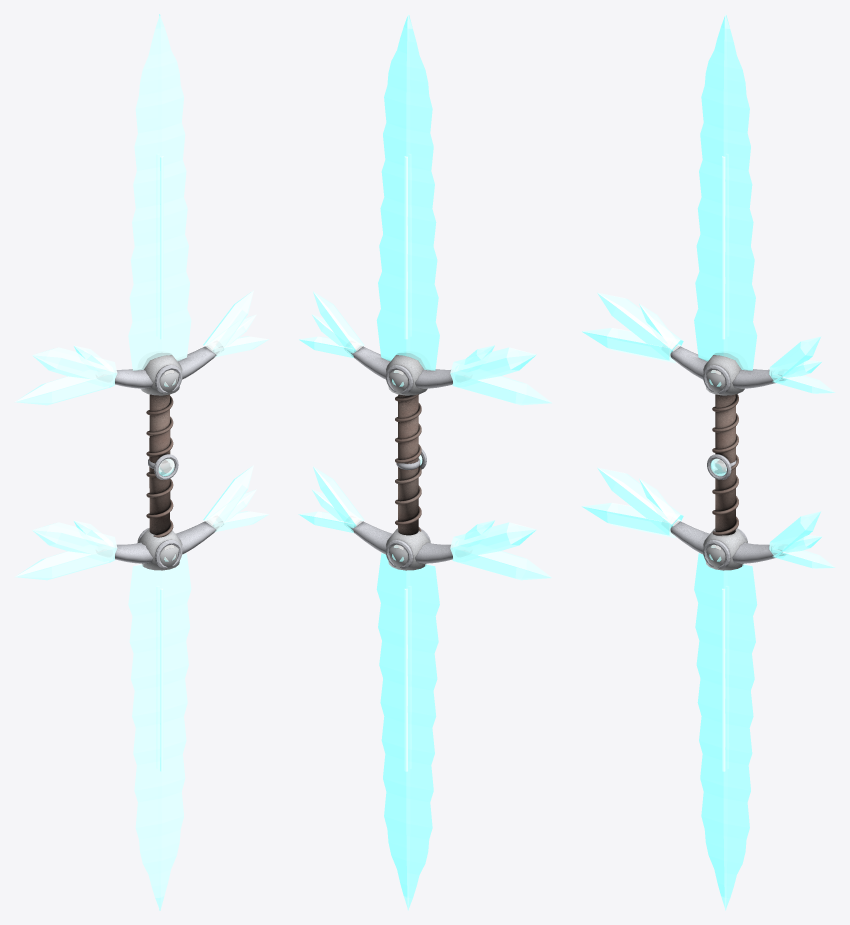
The model's file is arma_lend_espada_dupla_gelo.glb.
The picture shows the model from 3 angles, left to right: view 1: azimuth 30°, elevation 25°; view 2: azimuth 150°, elevation 25°; view 3: azimuth 330°, elevation 25°; orthographic projection.
Parts seen in each view (by area): view 1: lamina_cima, lamina_baixo, arma_lend_espada_dupla_gelo, guarda_baixo_ac-11, guarda_cima_ac-11, guarda_baixo_ac-10, guarda_cima_ac-10, guarda_baixo_ac12, guarda_cima_ac12, lamina_cima_runa-1, lamina_baixo_runa1, lamina_baixo_runa-1 (+5 smaller); view 2: lamina_cima, lamina_baixo, arma_lend_espada_dupla_gelo, guarda_baixo_ac-11, guarda_cima_ac-11, guarda_cima_ac-10, guarda_baixo_ac-10, guarda_baixo_ac12, guarda_cima_ac12, lamina_cima_runa1, lamina_baixo_runa-1, lamina_baixo_runa1 (+5 smaller); view 3: lamina_cima, lamina_baixo, arma_lend_espada_dupla_gelo, guarda_baixo_ac-11, guarda_cima_ac-11, guarda_cima_ac-10, guarda_baixo_ac-10, guarda_cima_ac12, guarda_baixo_ac12, lamina_baixo_runa1, lamina_cima_runa-1, guarda_baixo_ac10 (+7 smaller).
Boxes of the visible parts, left/top/right/bottom form: lamina_cima: left=128, top=14, right=191, bottom=370; lamina_baixo: left=128, top=553, right=191, bottom=910; arma_lend_espada_dupla_gelo: left=115, top=346, right=222, bottom=570; guarda_baixo_ac-11: left=32, top=522, right=117, bottom=561; guarda_cima_ac-11: left=32, top=347, right=117, bottom=386; guarda_baixo_ac-10: left=14, top=540, right=114, bottom=580; guarda_cima_ac-10: left=14, top=365, right=114, bottom=405; guarda_baixo_ac12: left=203, top=465, right=253, bottom=530; guarda_cima_ac12: left=203, top=290, right=253, bottom=355; lamina_cima_runa-1: left=160, top=156, right=163, bottom=339; lamina_baixo_runa1: left=160, top=588, right=163, bottom=771; lamina_baixo_runa-1: left=156, top=586, right=159, bottom=768; lamina_cima: left=376, top=14, right=439, bottom=370; lamina_baixo: left=376, top=553, right=439, bottom=910; arma_lend_espada_dupla_gelo: left=347, top=346, right=452, bottom=570; guarda_baixo_ac-11: left=450, top=522, right=536, bottom=561; guarda_cima_ac-11: left=450, top=347, right=536, bottom=386; guarda_cima_ac-10: left=452, top=366, right=551, bottom=405; guarda_baixo_ac-10: left=452, top=541, right=551, bottom=580; guarda_baixo_ac12: left=313, top=466, right=364, bottom=529; guarda_cima_ac12: left=313, top=291, right=364, bottom=354; lamina_cima_runa1: left=404, top=156, right=407, bottom=339; lamina_baixo_runa-1: left=404, top=588, right=407, bottom=771; lamina_baixo_runa1: left=408, top=586, right=411, bottom=768; lamina_cima: left=694, top=14, right=757, bottom=370; lamina_baixo: left=694, top=553, right=757, bottom=910; arma_lend_espada_dupla_gelo: left=670, top=346, right=785, bottom=570; guarda_baixo_ac-11: left=597, top=467, right=683, bottom=534; guarda_cima_ac-11: left=597, top=292, right=683, bottom=359; guarda_cima_ac-10: left=582, top=328, right=680, bottom=363; guarda_baixo_ac-10: left=581, top=502, right=680, bottom=538; guarda_cima_ac12: left=769, top=336, right=820, bottom=382; guarda_baixo_ac12: left=769, top=511, right=820, bottom=557; lamina_baixo_runa1: left=722, top=588, right=725, bottom=771; lamina_cima_runa-1: left=722, top=156, right=725, bottom=339; guarda_baixo_ac10: left=772, top=548, right=835, bottom=568.
Size of the model in its own units: 0.5486 by 1.85 by 0.085.
24 materials, 1 textured.
